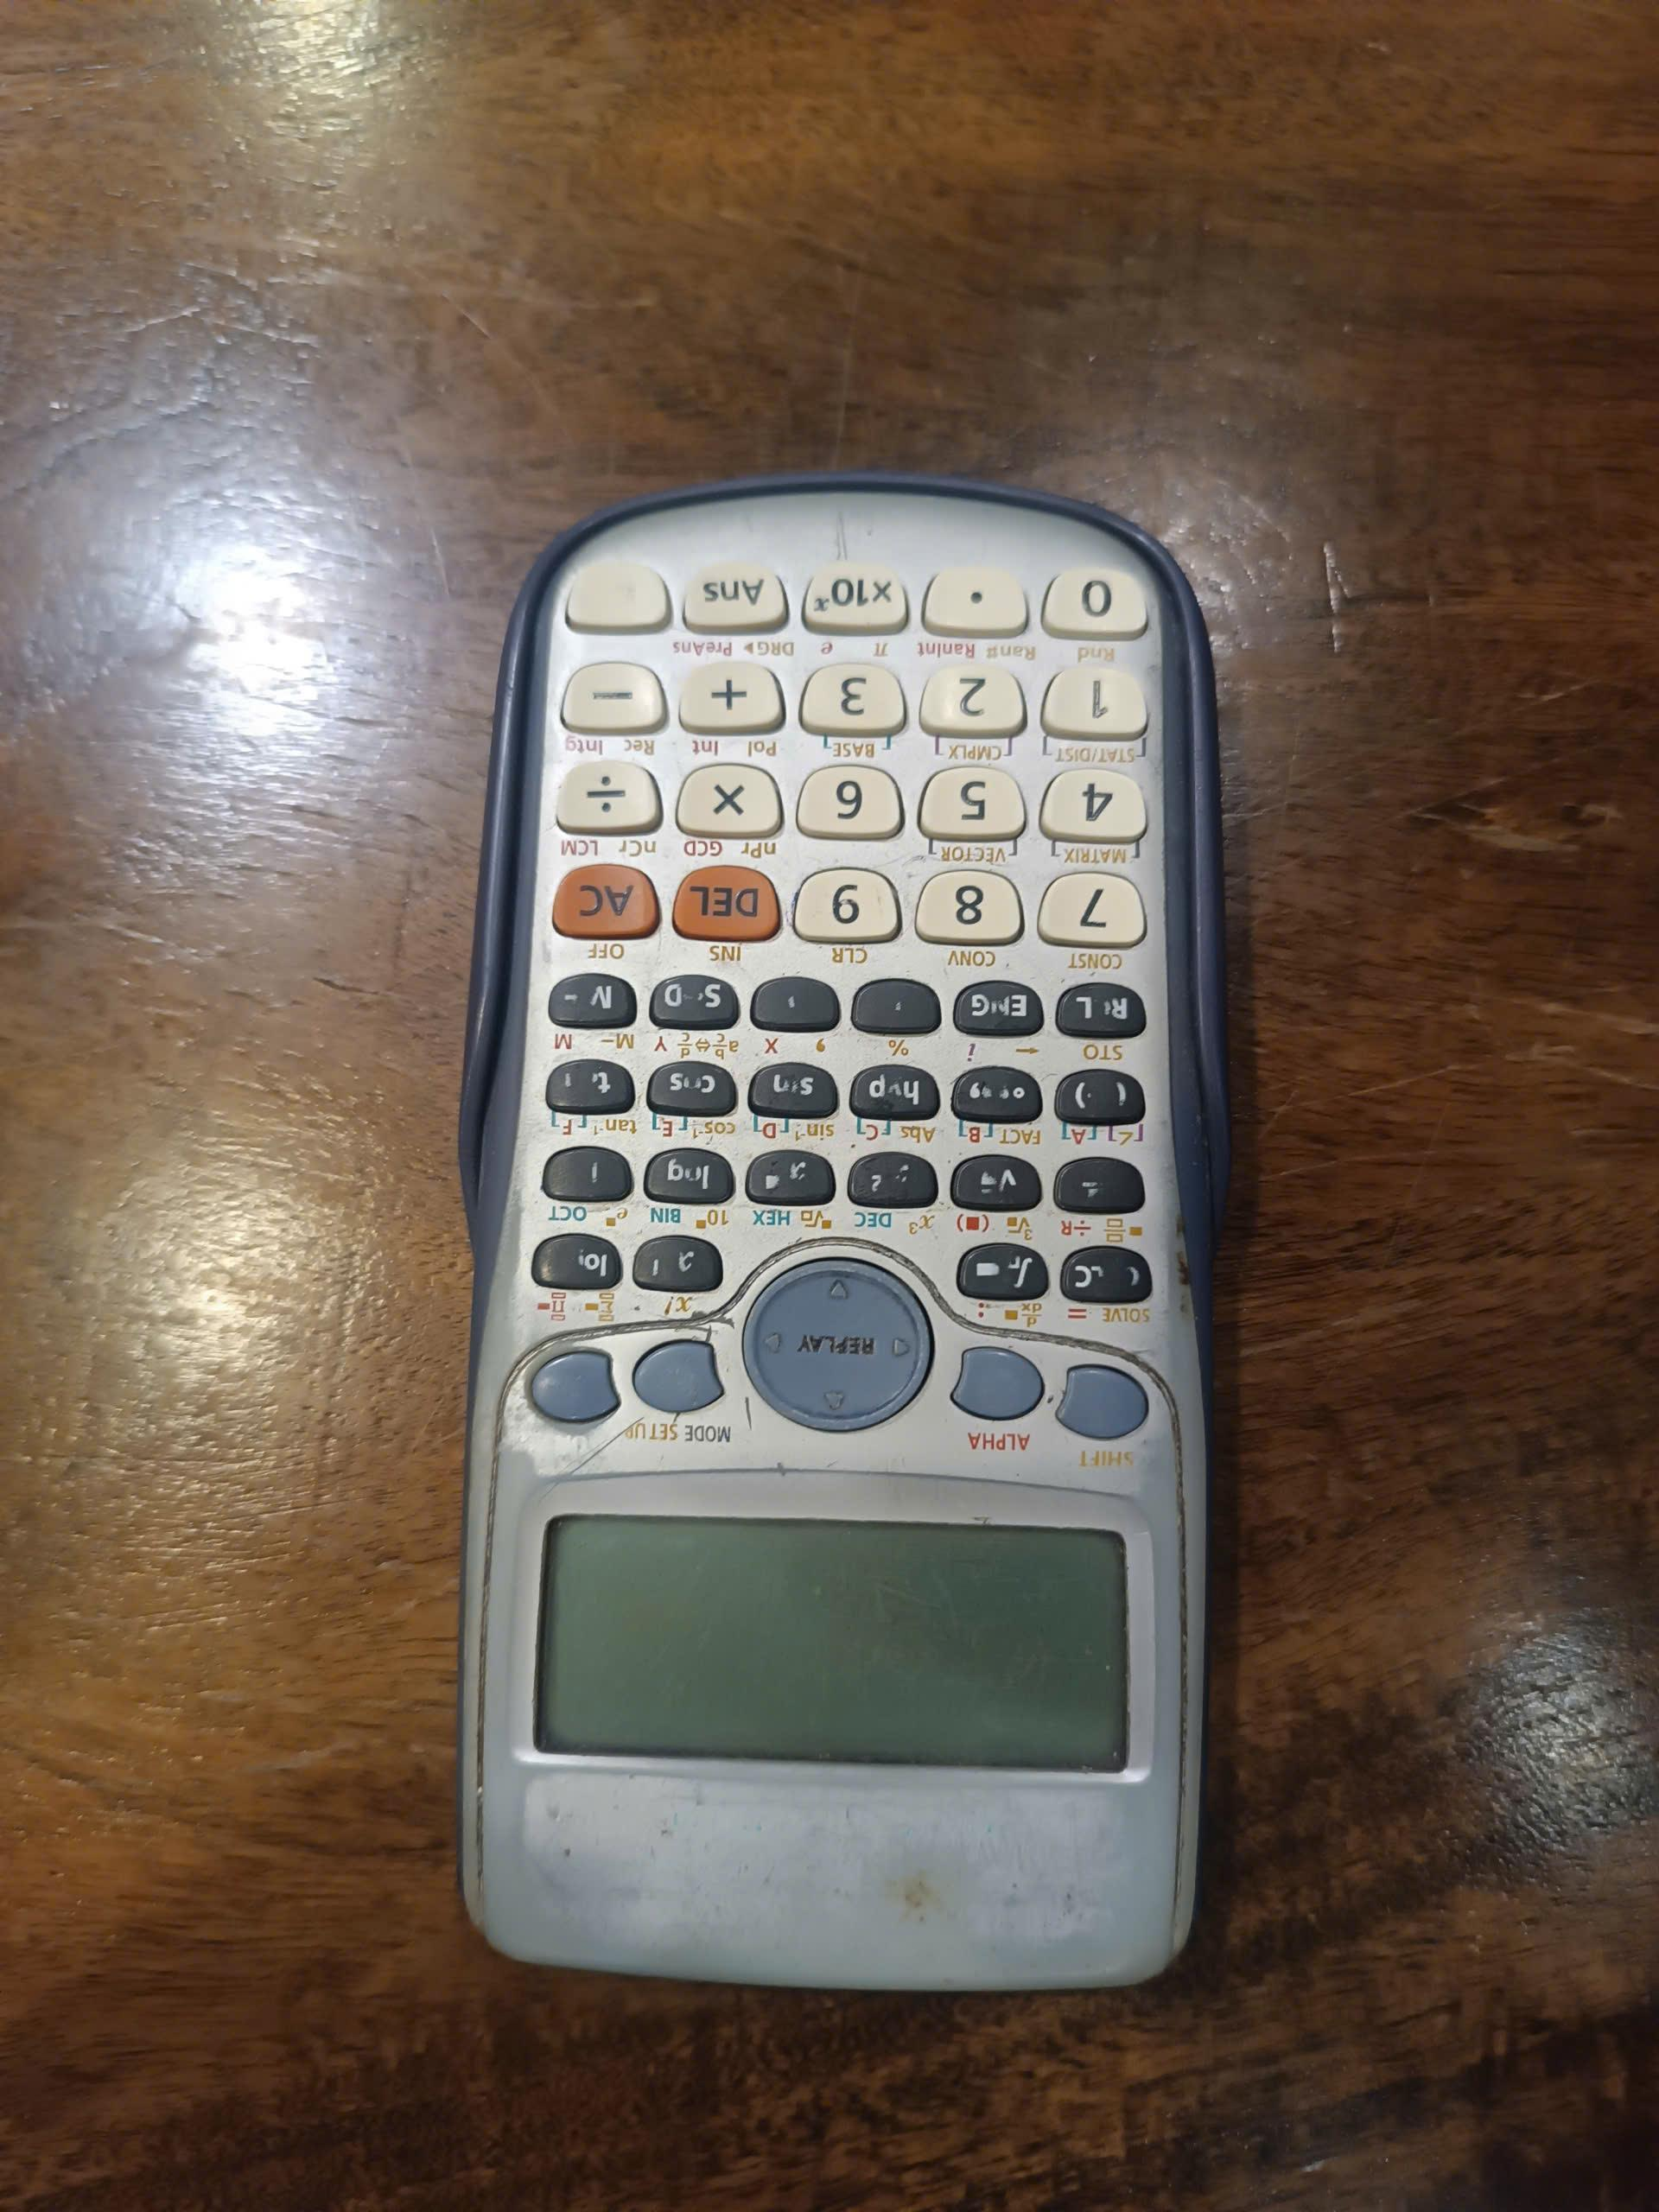Con lai: (458, 446, 1227, 1982)
